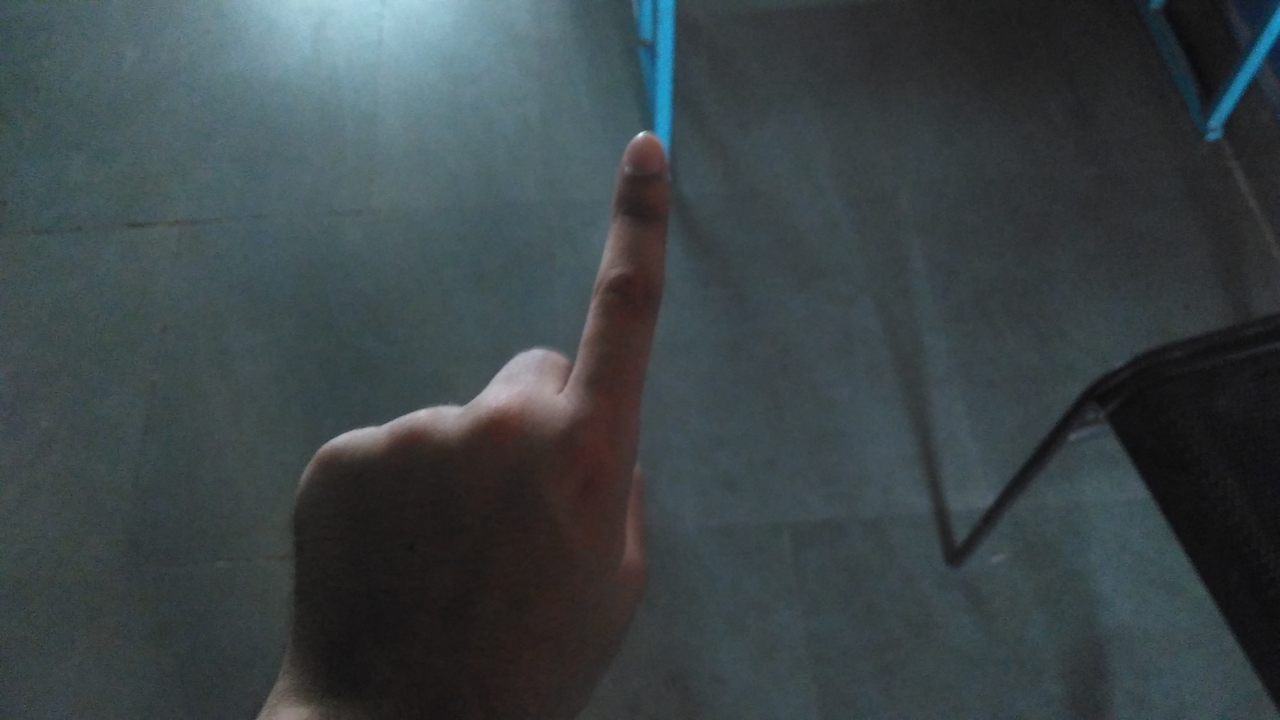fingertip: (614, 122, 672, 180)
